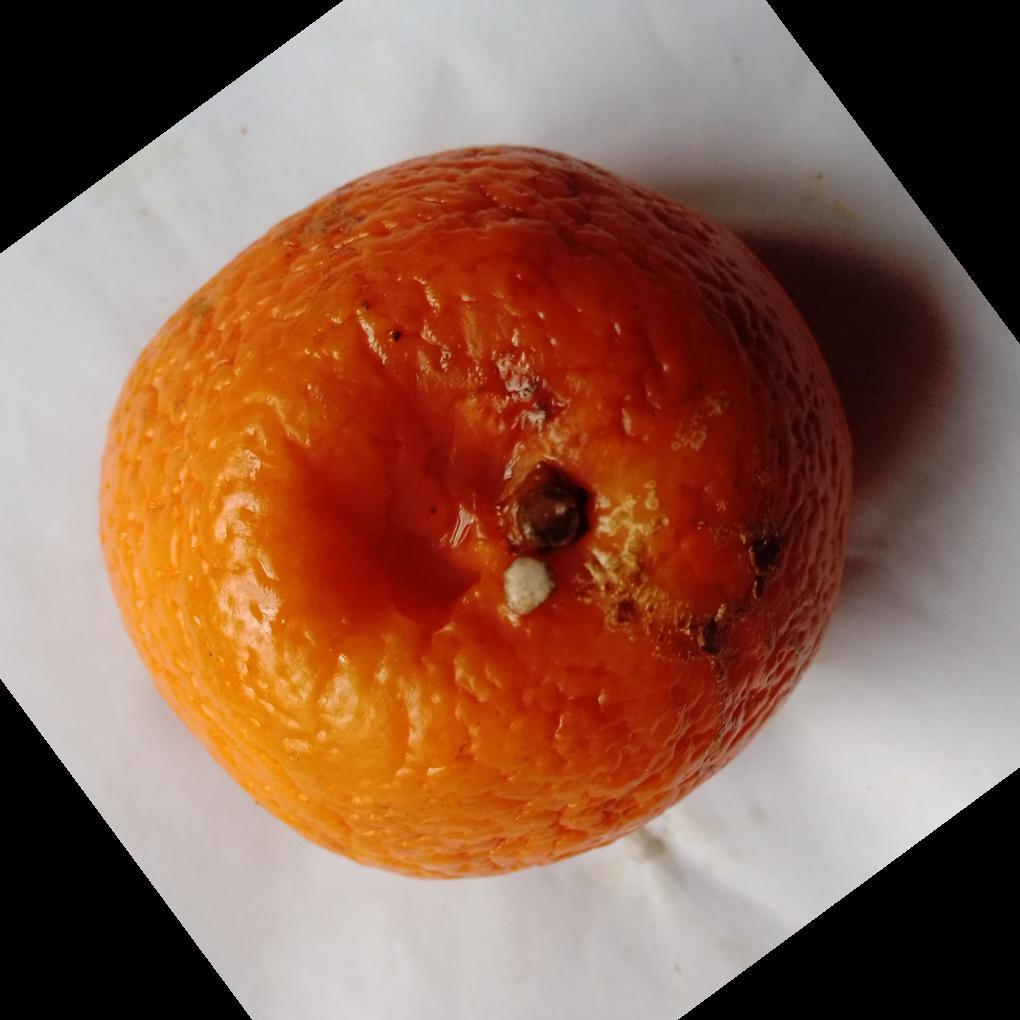FreshOrange: (95, 145, 855, 886)
